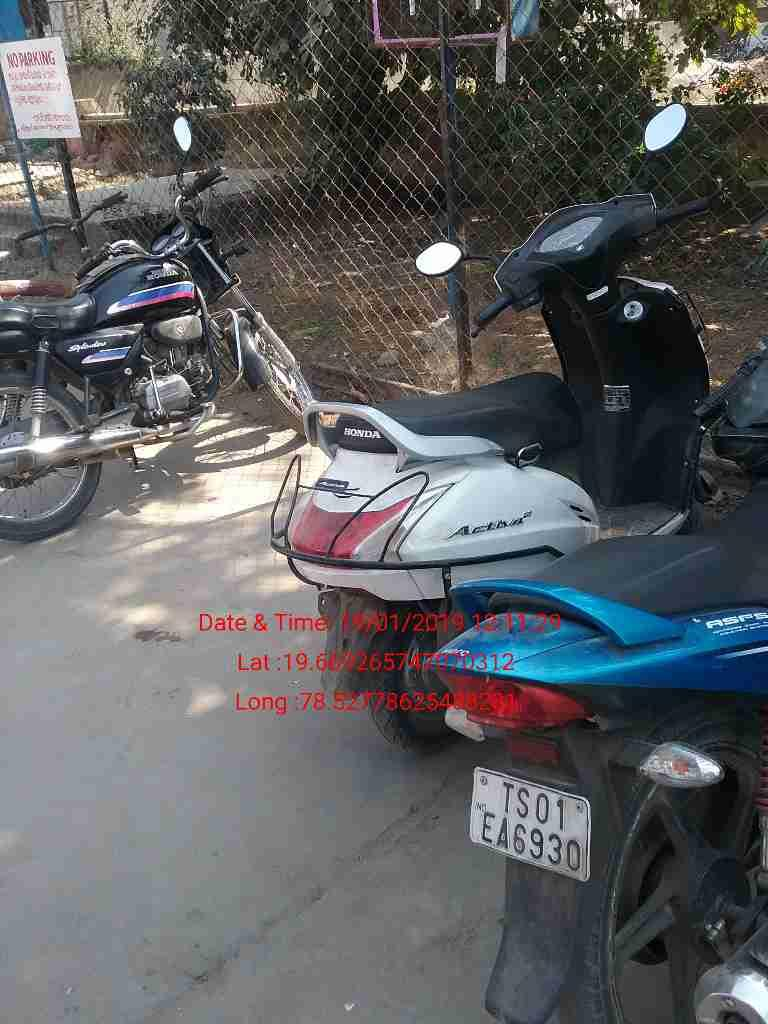plate: (468, 766, 596, 885)
